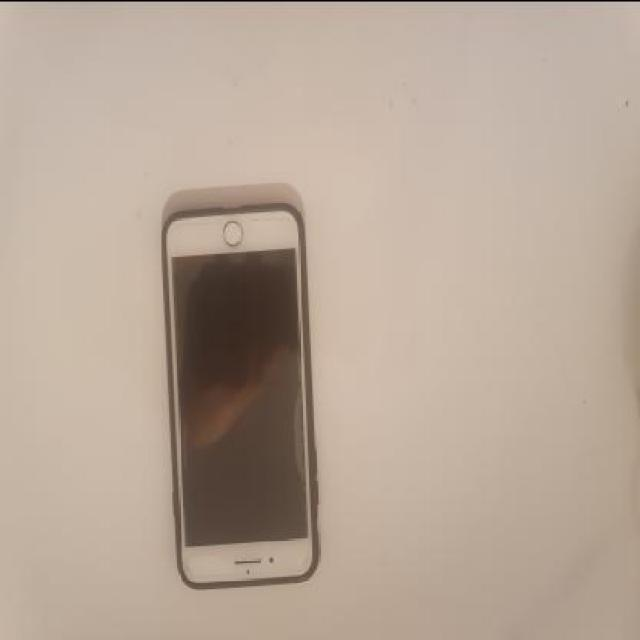phone: (161, 200, 319, 586)
